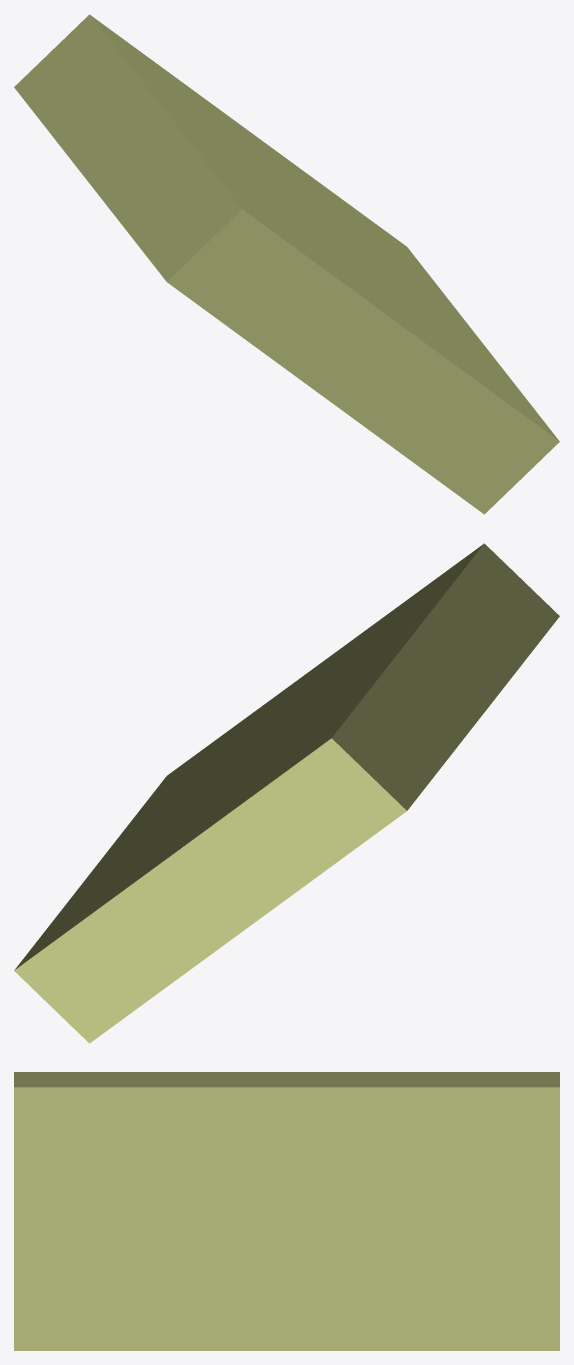
The picture shows the model from 3 angles, top to bottom: view 1: azimuth 30°, elevation 25°; view 2: azimuth 150°, elevation 25°; view 3: azimuth 270°, elevation 25°; orthographic projection. The views are drawn at different scales.
Parts seen in each view (by area): view 1: 0_1_1_3_2_2_0_2_3_0_3_3; view 2: 0_1_1_3_2_2_0_2_3_0_3_3; view 3: 0_1_1_3_2_2_0_2_3_0_3_3.
Part boxes in pixels (x1,y1,x2,y2): 0_1_1_3_2_2_0_2_3_0_3_3: (14, 14, 559, 514); 0_1_1_3_2_2_0_2_3_0_3_3: (14, 543, 559, 1043); 0_1_1_3_2_2_0_2_3_0_3_3: (14, 1072, 559, 1350).
Size of the model in its own units: 2.49 by 2.99 by 6.
